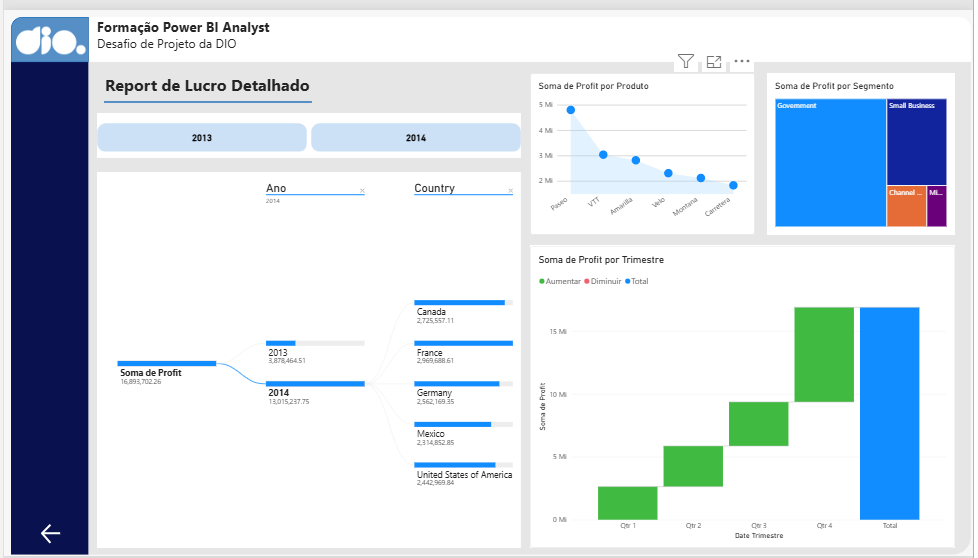

The dashboard page shown, as its layout file describes it:
{"tool":"powerbi","page":{"name":"Página 2","canvas":[1920,1080],"ordinal":1},"visuals":[{"type":"shape","box":[23.8,13.9,1892.4,1065.6],"z":0},{"type":"shape","box":[197.9,160.8,412.1,43.6],"z":0,"group":"g1"},{"type":"shape","box":[13.8,13.8,153.9,1065.6],"z":1},{"type":"shape","box":[13.9,13.9,153.9,89.6],"z":2},{"type":"image","title":"logo-dio","box":[23,9.2,137.8,101.1],"z":3},{"type":"shape","box":[168.4,13.9,1747.6,89.2],"z":4},{"type":"textbox","box":[183.7,13.8,390.4,89.6],"z":5},{"type":"group","id":"g1","title":"Title report","box":[197.9,124.8,420.2,79.6],"z":6},{"type":"actionButton","box":[23.8,1010.5,138.7,55.5],"z":7},{"type":"shape","box":[1511.8,124.8,372.5,321],"z":8},{"type":"shape","box":[1042.2,124.8,445.8,321],"z":9},{"type":"shape","box":[1042.2,465.6,842.1,600.4],"z":10},{"type":"shape","box":[184.3,321,840.1,745],"z":11},{"type":"treemap","title":"Soma de Profit por Segmento","fields":{"Values":["Sum(financials.Profit)"],"Group":["financials.Segment"]},"box":[1511.8,124.8,372.5,321],"z":13},{"type":"waterfallChart","title":"Soma de Profit por Trimestre","fields":{"Y":["Sum(financials.Profit)"],"Category":["financials.Date.Variation.Hierarquia de datas.Trimestre"]},"box":[1042.2,467.6,842.1,598.4],"z":14},{"type":"decompositionTreeVisual","fields":{"Analyze":["Sum(financials.Profit)"],"ExplainBy":["financials.Date.Variation.Hierarquia de datas.Ano","financials.Country"]},"box":[184.3,321,840.1,745],"z":15},{"type":"stackedAreaChart","title":"Soma de Profit por Produto","fields":{"Category":["financials.Product"],"Y":["Sum(financials.Profit)"]},"box":[1042.2,124.8,445.8,321],"z":16},{"type":"shape","box":[184.3,204.1,840.1,89.2],"z":17},{"type":"advancedSlicerVisual","fields":{"Values":["financials.Date.Variation.Hierarquia de datas.Ano"]},"box":[184.3,223.9,840.1,57.5],"z":18},{"type":"textbox","box":[200,124.8,418.1,55.5],"z":1000,"group":"g1"}]}

Visuals, with their boxes on the page's 1920x1080 design canvas (x1, y1, x2, y2). These are canvas units, not pixel positions in the 978x558 screenshot, which may show the page scaled, cropped or inside an application window:
shape: <region>24, 14, 1916, 1080</region>
shape: <region>198, 161, 610, 204</region>
shape: <region>14, 14, 168, 1079</region>
shape: <region>14, 14, 168, 104</region>
"logo-dio" image: <region>23, 9, 161, 110</region>
shape: <region>168, 14, 1916, 103</region>
textbox: <region>184, 14, 574, 103</region>
"Title report" group: <region>198, 125, 618, 204</region>
actionButton: <region>24, 1010, 162, 1066</region>
shape: <region>1512, 125, 1884, 446</region>
shape: <region>1042, 125, 1488, 446</region>
shape: <region>1042, 466, 1884, 1066</region>
shape: <region>184, 321, 1024, 1066</region>
"Soma de Profit por Segmento" treemap: <region>1512, 125, 1884, 446</region>
"Soma de Profit por Trimestre" waterfallChart: <region>1042, 468, 1884, 1066</region>
decompositionTreeVisual - Sum(financials.Profit) x financials.Date.Variation.Hierarquia de datas.Ano: <region>184, 321, 1024, 1066</region>
"Soma de Profit por Produto" stackedAreaChart: <region>1042, 125, 1488, 446</region>
shape: <region>184, 204, 1024, 293</region>
advancedSlicerVisual - financials.Date.Variation.Hierarquia de datas.Ano: <region>184, 224, 1024, 281</region>
textbox: <region>200, 125, 618, 180</region>
